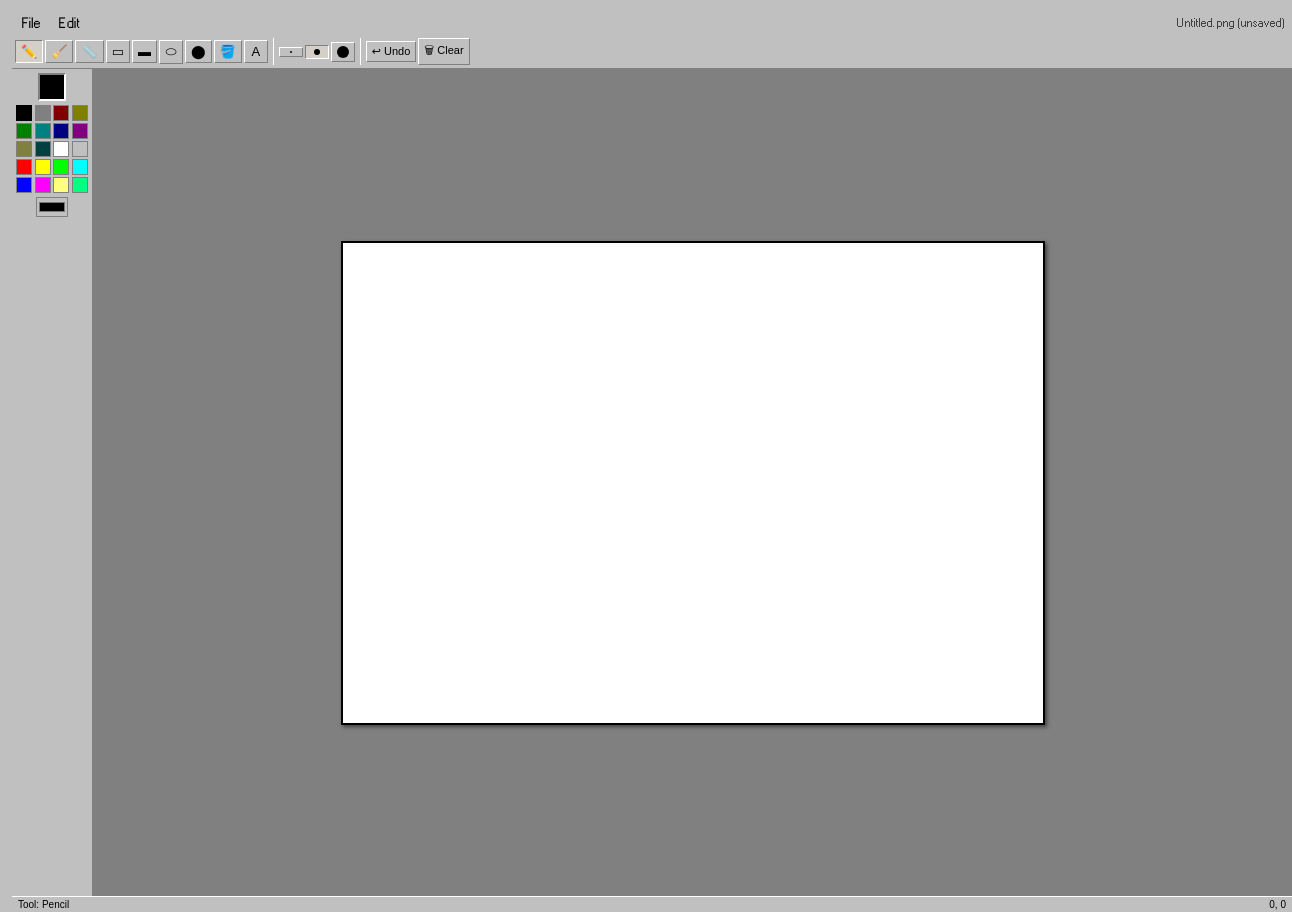
it: Paint text tool › clicking the canvas opens a text box where you click
The width and height of the screenshot is (1292, 912).
Click the button named "Text": (256, 52) [244,40,268,63]
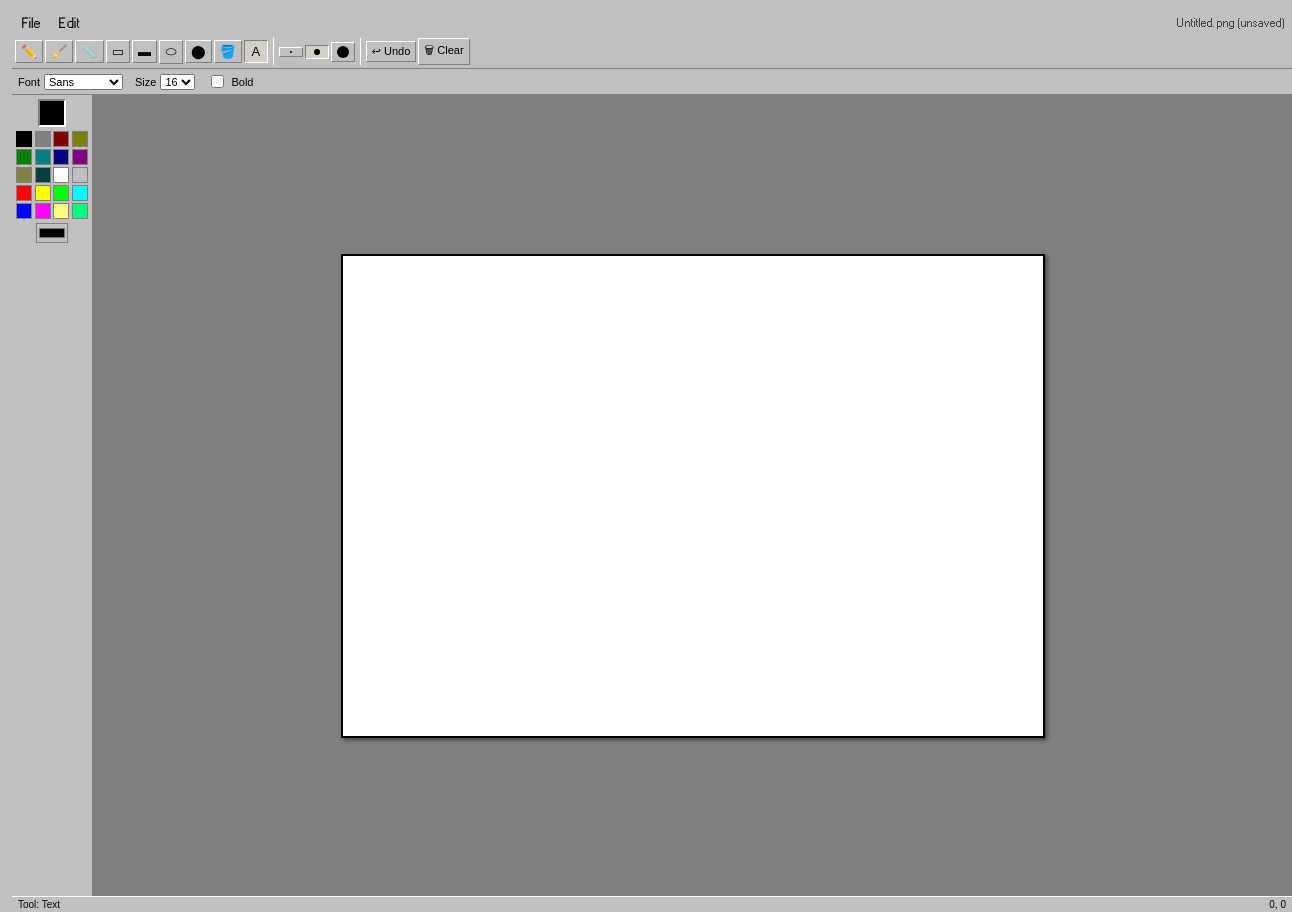
Press the mouse on the 2nd drawing: (692, 496) [340,254,1044,738]
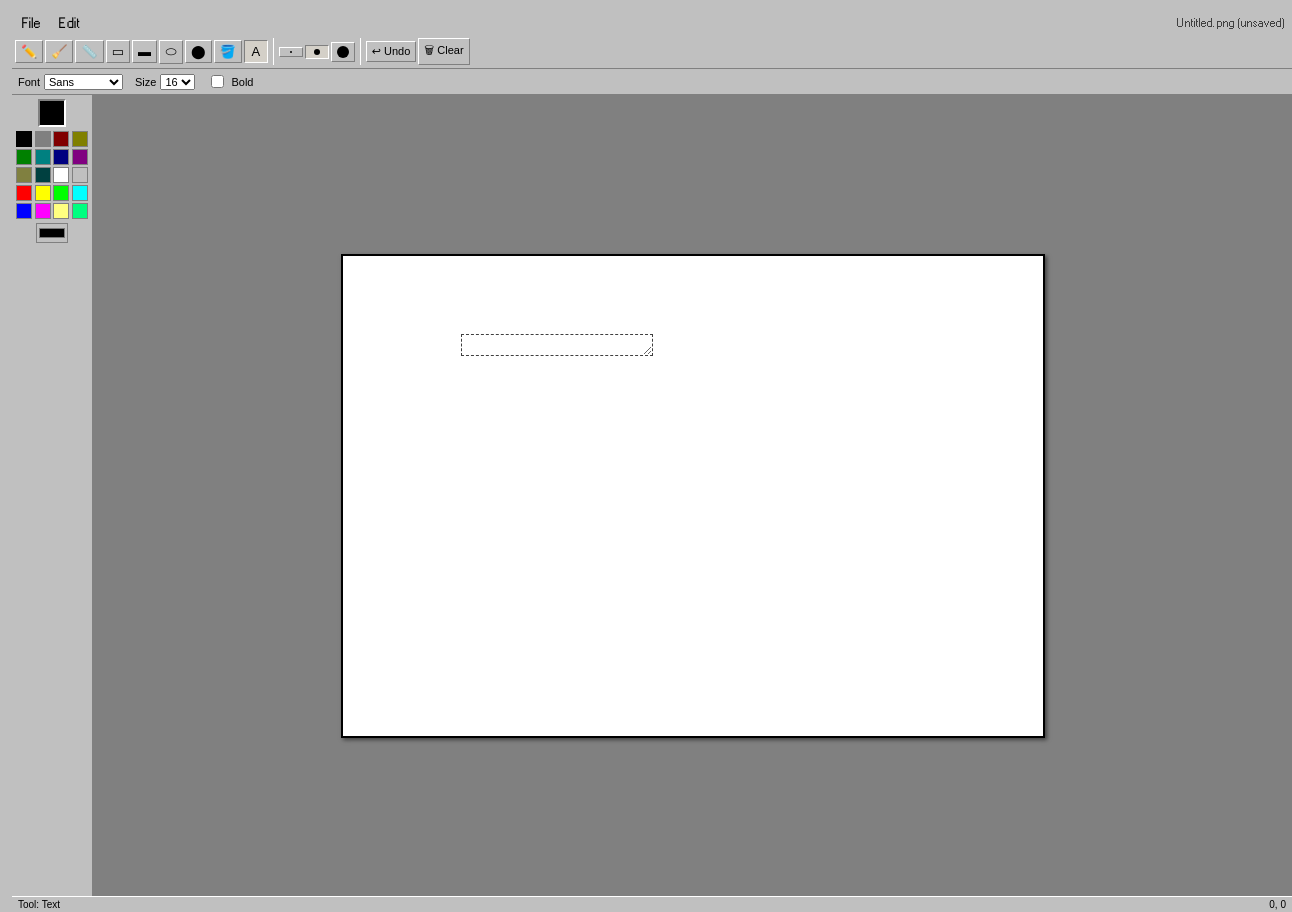
Expected: the text box named "Text" is shown, [460,334,652,356]
